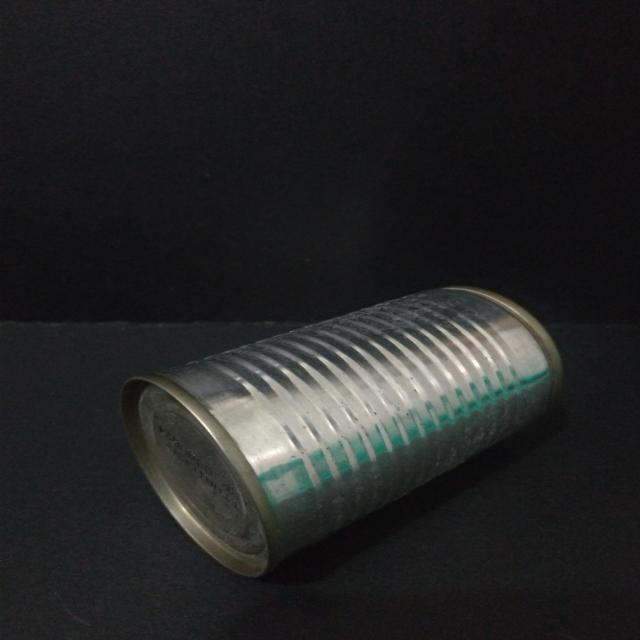metal-can: (119, 280, 564, 582)
